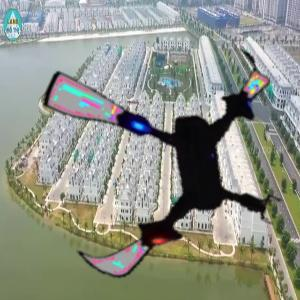drone: (22, 18, 298, 294)
